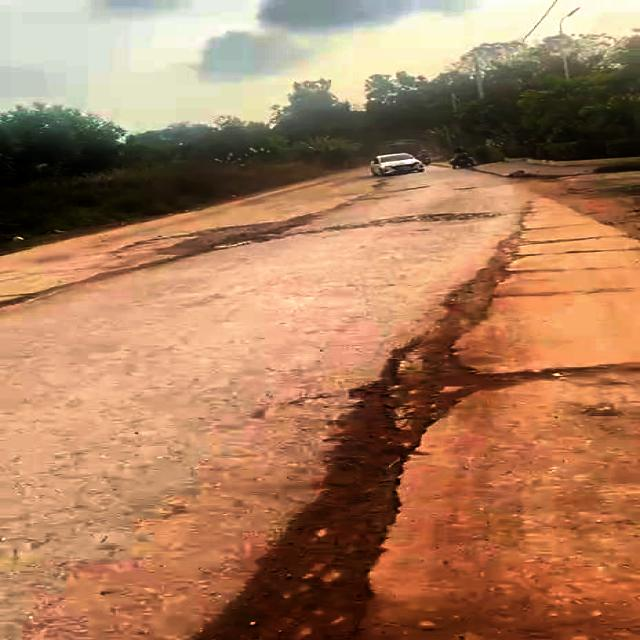pothole: (327, 335, 488, 469)
